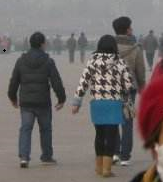person: (69, 34, 134, 176), (7, 31, 66, 167), (112, 16, 146, 164), (144, 30, 156, 71), (65, 33, 77, 66), (78, 32, 88, 64), (54, 34, 62, 56)
